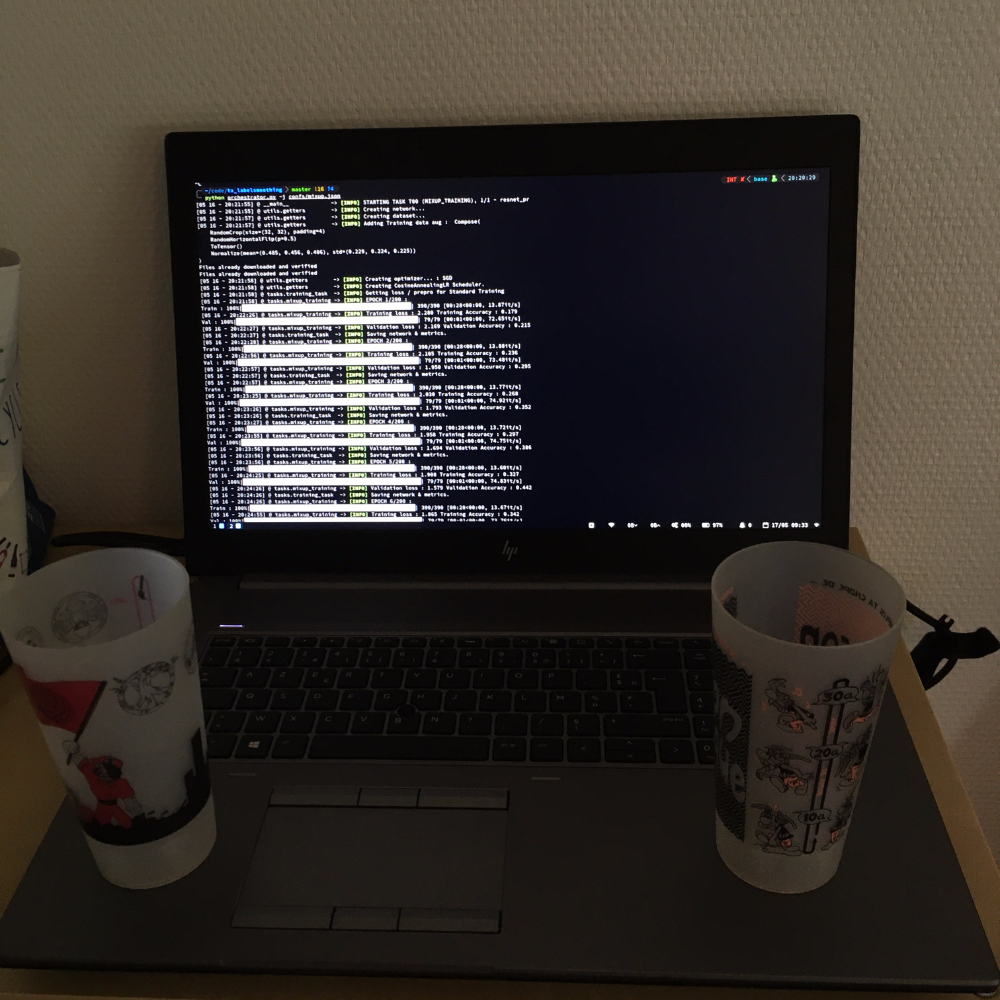ecocup: (1, 548, 216, 890), (710, 540, 905, 893)
